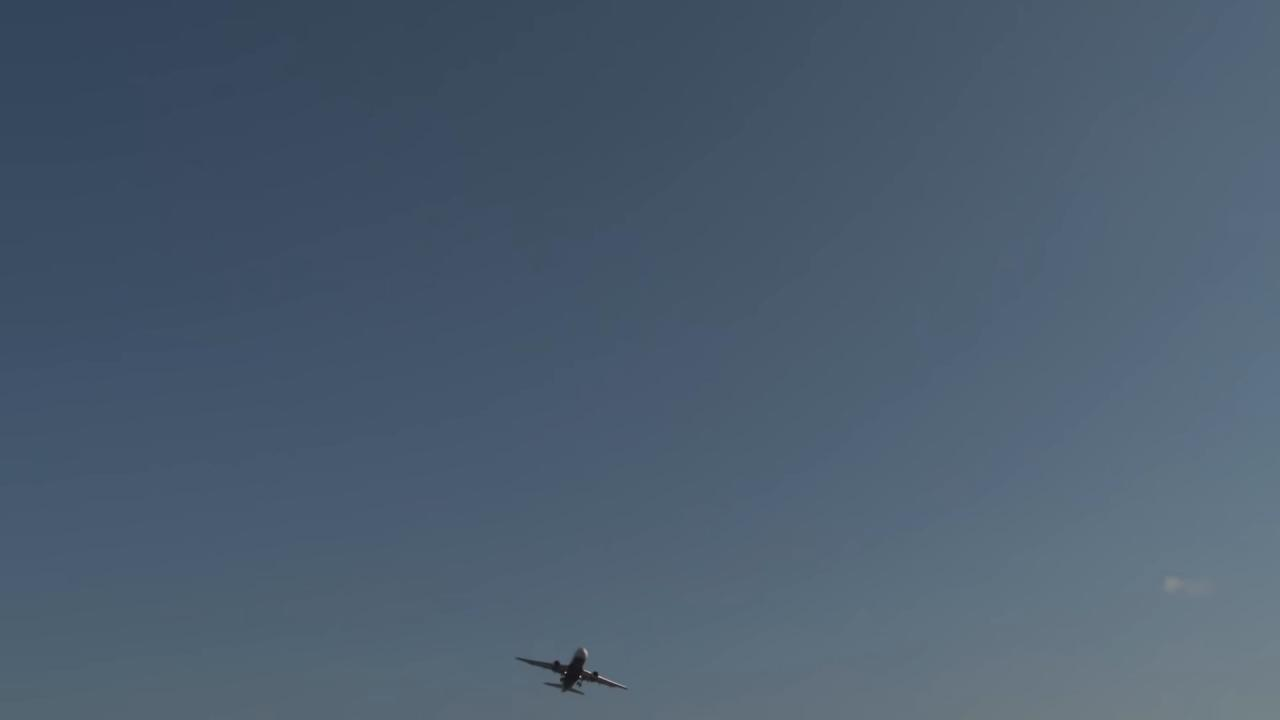Airplane: (508, 636, 632, 704)
